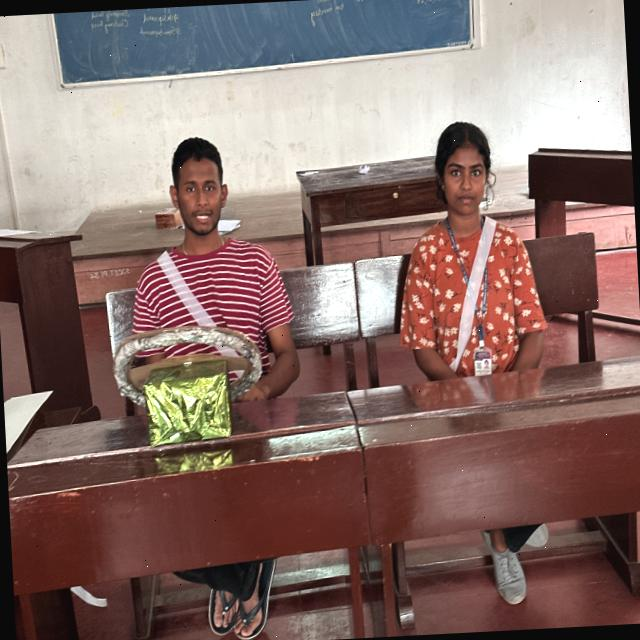seatbelt: (110, 218, 305, 447), (394, 204, 551, 396)
